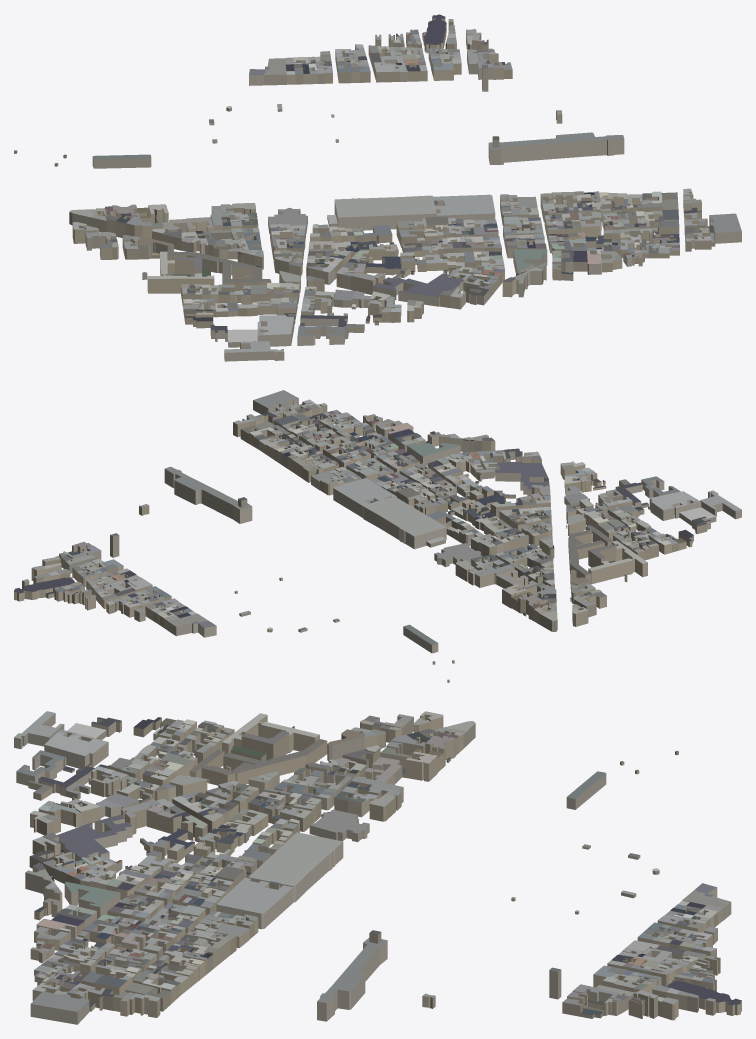
3 renders of one model, top to bottom at view 1: azimuth 30°, elevation 25°; view 2: azimuth 150°, elevation 25°; view 3: azimuth 270°, elevation 25°, orthographic. The views are drawn at different scales.
Parts seen in each view (by area): view 1: tuile; view 2: tuile; view 3: tuile.
Boxes of the visible parts, bbox=[...] form: tuile: bbox=[14, 14, 741, 361]; tuile: bbox=[14, 390, 741, 682]; tuile: bbox=[14, 711, 741, 1024].
Size of the model in its own units: 1062 by 46.69 by 1078.
